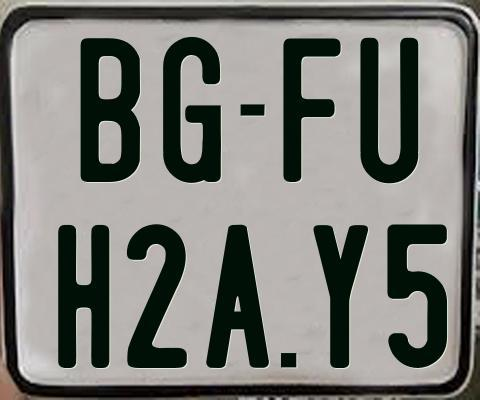2: (127, 222, 193, 372)
5: (386, 222, 447, 371)
A: (203, 225, 267, 368)
B: (79, 35, 144, 185)
F: (283, 37, 343, 183)
G: (162, 37, 223, 189)
H: (57, 223, 112, 367)
U: (357, 36, 420, 184)
Y: (312, 222, 368, 366)
